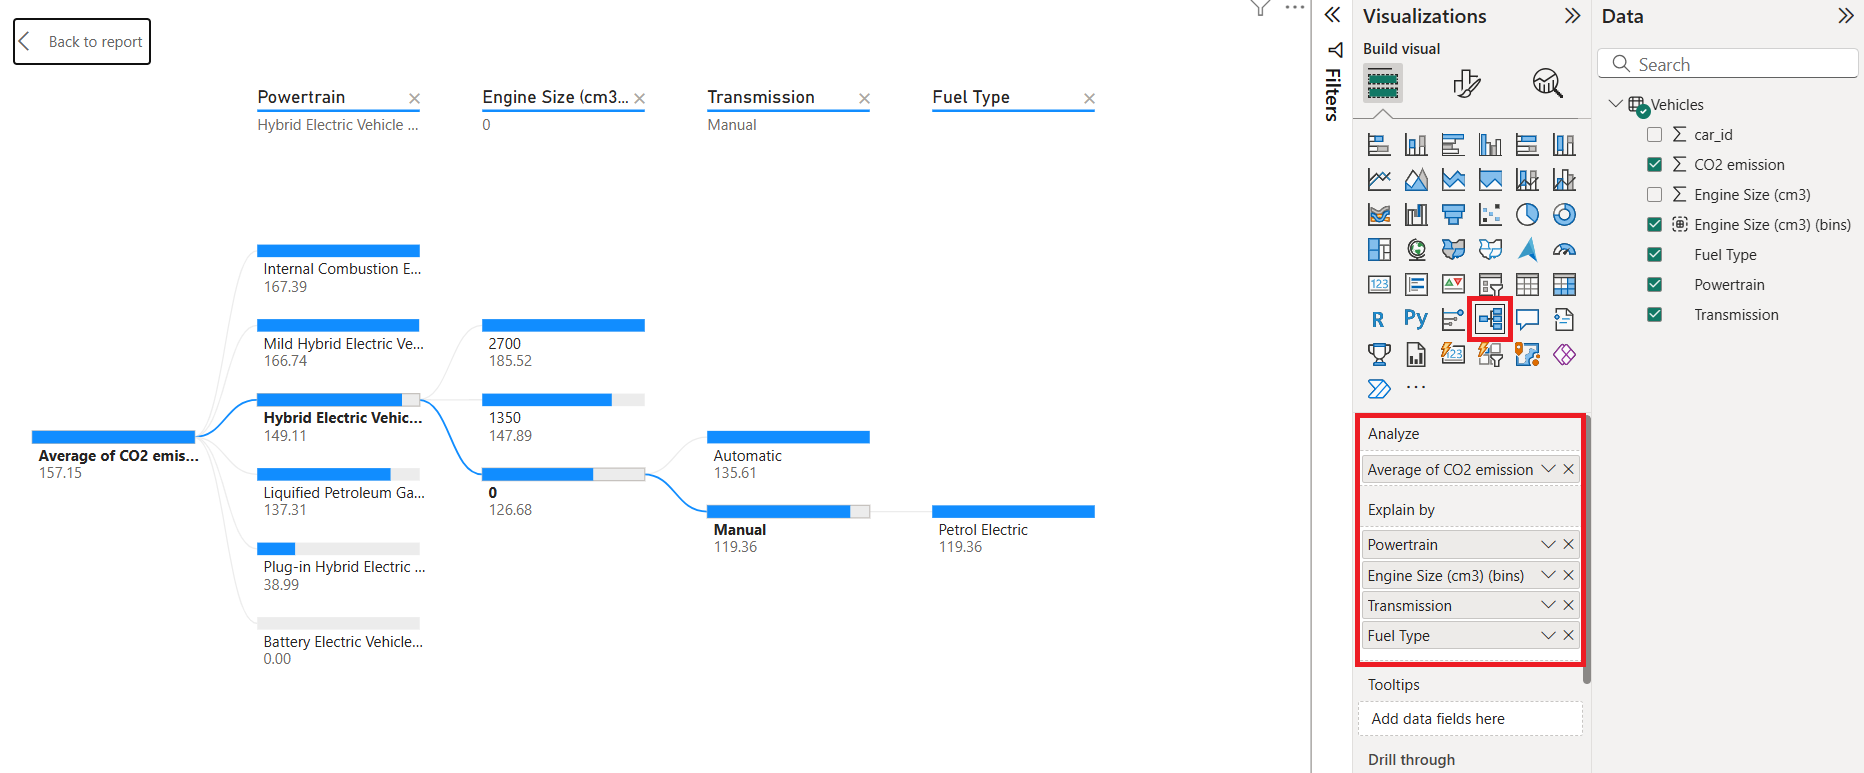

Layout of this report page (visuals, bound fields, positions):
{"tool":"powerbi","page":{"name":"Decomposition Tree","canvas":[1280,720],"ordinal":4},"visuals":[{"type":"decompositionTreeVisual","fields":{"Analyze":["Avg(Vehicles.CO2 emission)"],"ExplainBy":["Vehicles.Powertrain","Vehicles.Engine Size (cm3) (bins)","Vehicles.Transmission","Vehicles.Fuel Type"]},"box":[9.8,0,1270.5,720.2],"z":0}]}

Visuals, with their boxes on the page's 1280x720 design canvas (x1, y1, x2, y2). These are canvas units, not pixel positions in the 1864x773 screenshot, which may show the page scaled, cropped or inside an application window:
decompositionTreeVisual - Avg(Vehicles.CO2 emission) x Vehicles.Powertrain: Rect(10, 0, 1280, 720)
